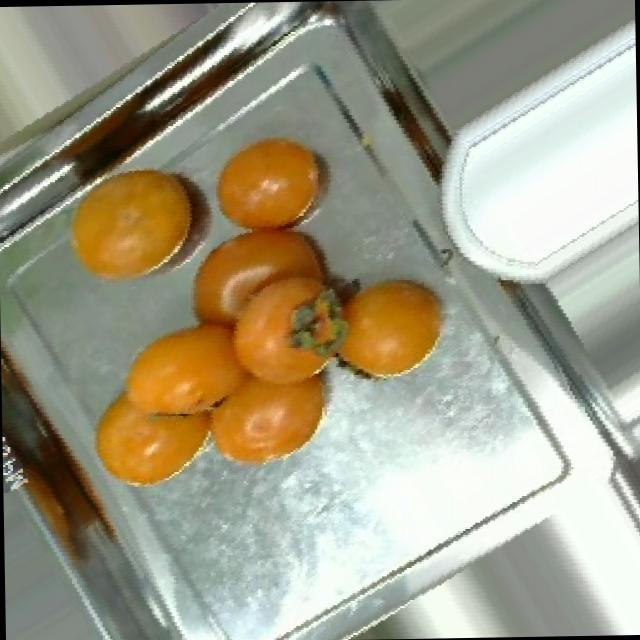Fruit: (39, 130, 242, 304), (70, 318, 251, 504), (190, 111, 358, 246), (312, 252, 468, 394)
